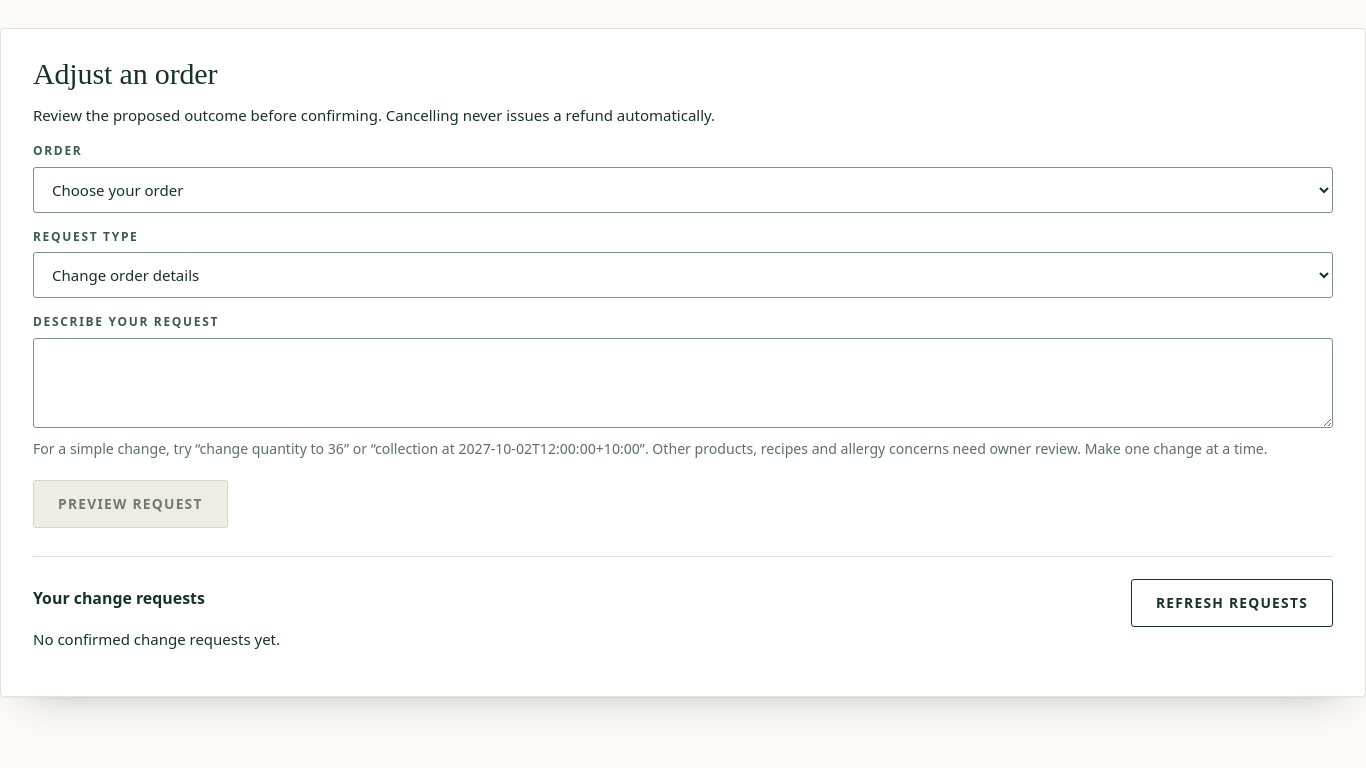
Test: preview and withdrawal never save an unconfirmed change
Select "24 cupcakes · #order-1 (Draft)" in the dropdown labelled "Order" at (683, 190), box [33, 167, 1333, 213]
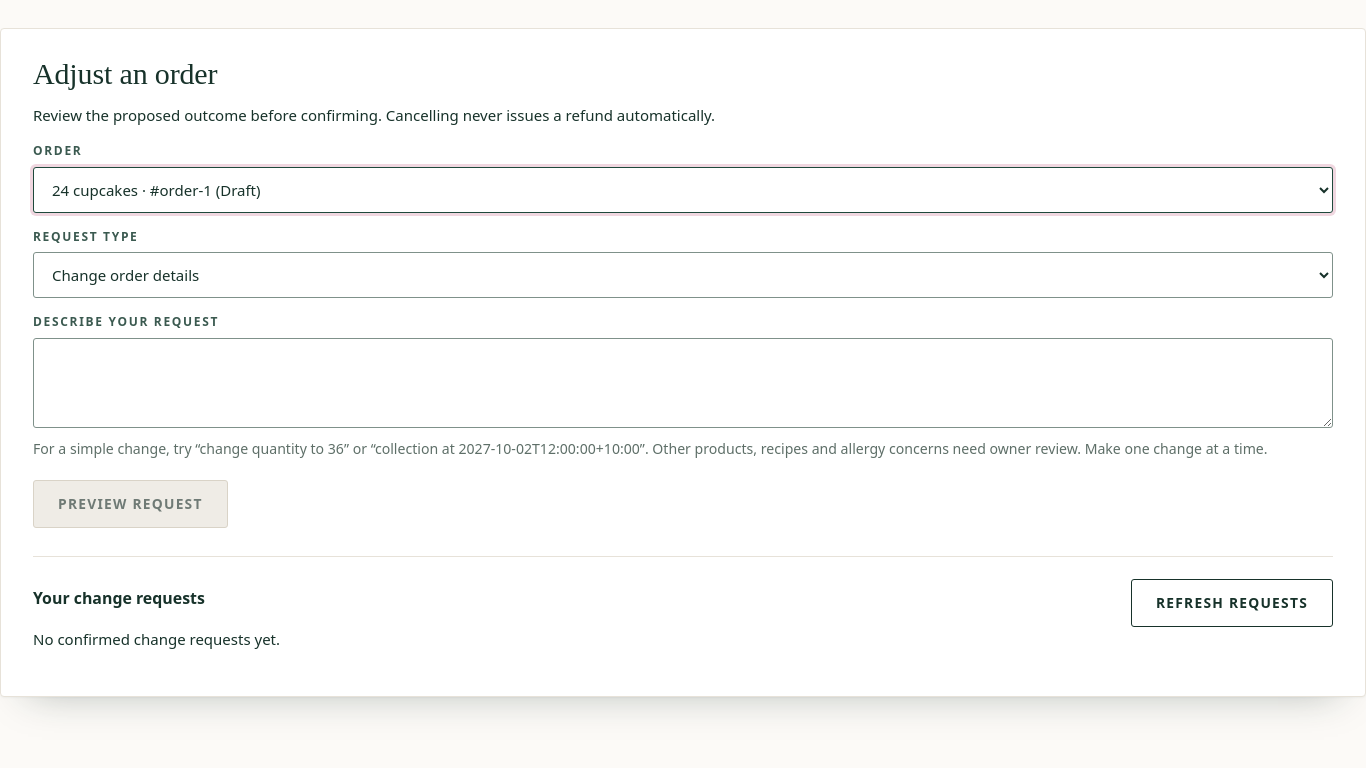
Type "change quantity to 36" into the text box labelled "Describe your request" at (683, 383), box [33, 338, 1333, 428]
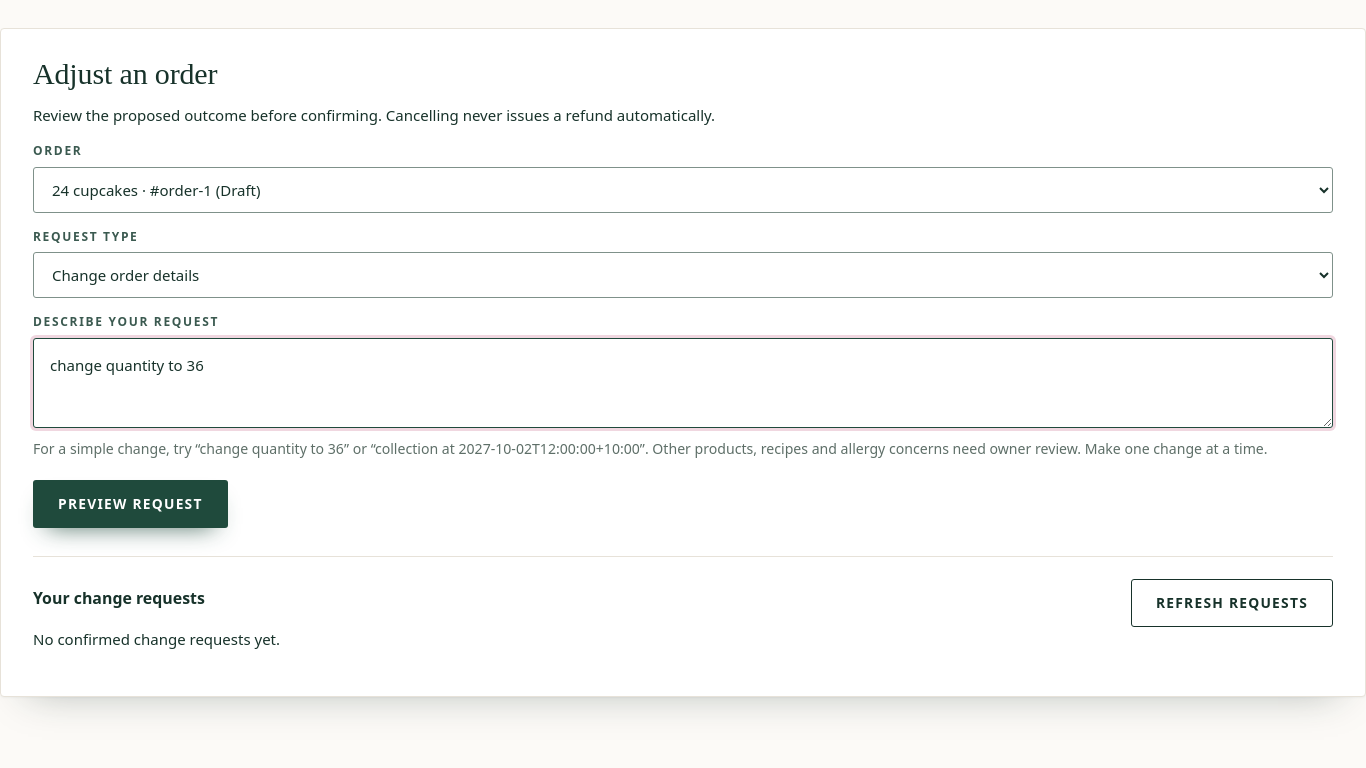
Click the button "Preview request" at (130, 504), box [33, 480, 228, 528]
(page scrolled)
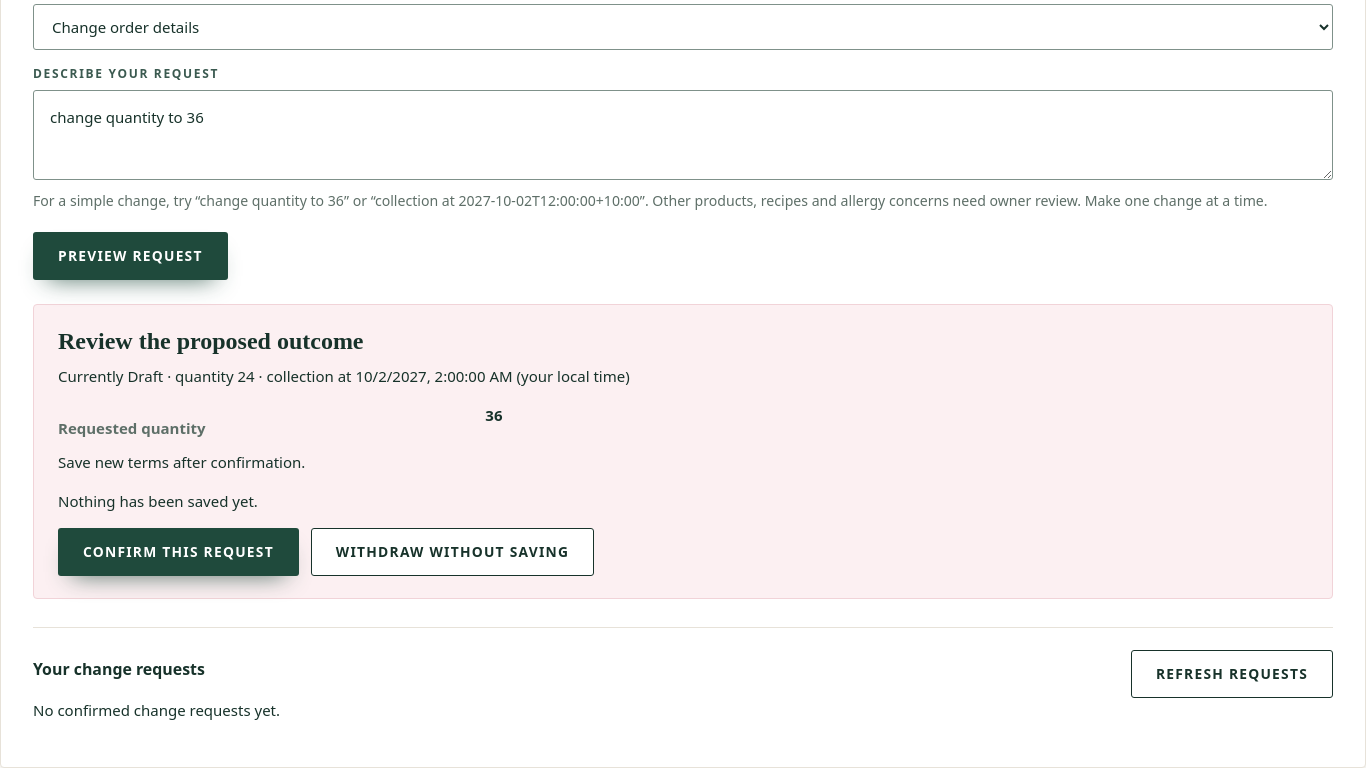
Expected: the heading "Review the proposed outcome" is shown, [58, 328, 364, 354]
Click the button "Withdraw without saving" at (453, 552), box [311, 528, 594, 576]
(page scrolled)
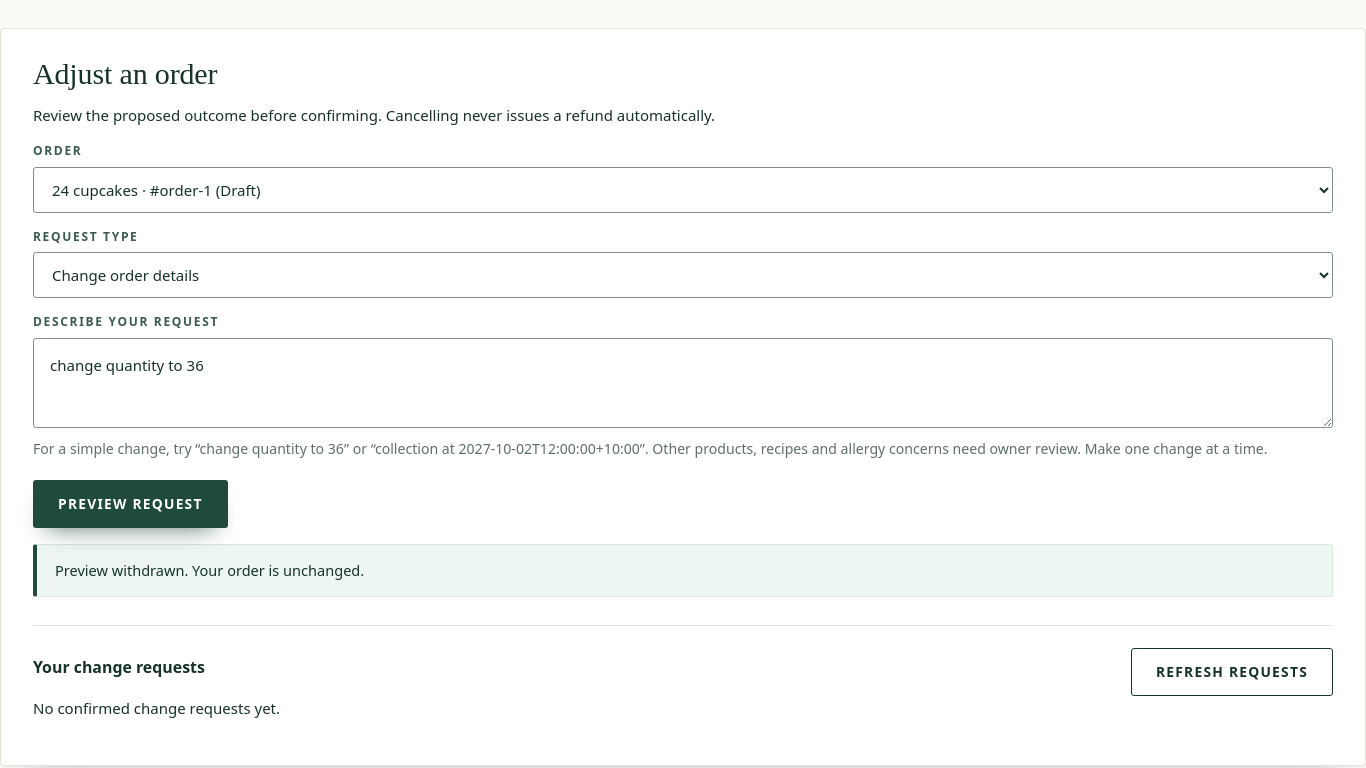
Expected: the button "Confirm this request" is gone
Expected: the text "Preview withdrawn. Your order is unchanged." is shown, [33, 544, 1333, 597]
